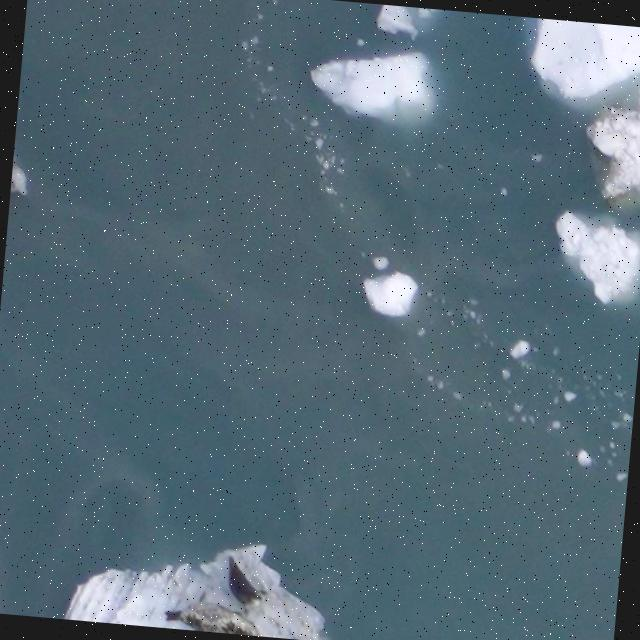seal: (166, 603, 260, 635), (227, 555, 265, 607)
